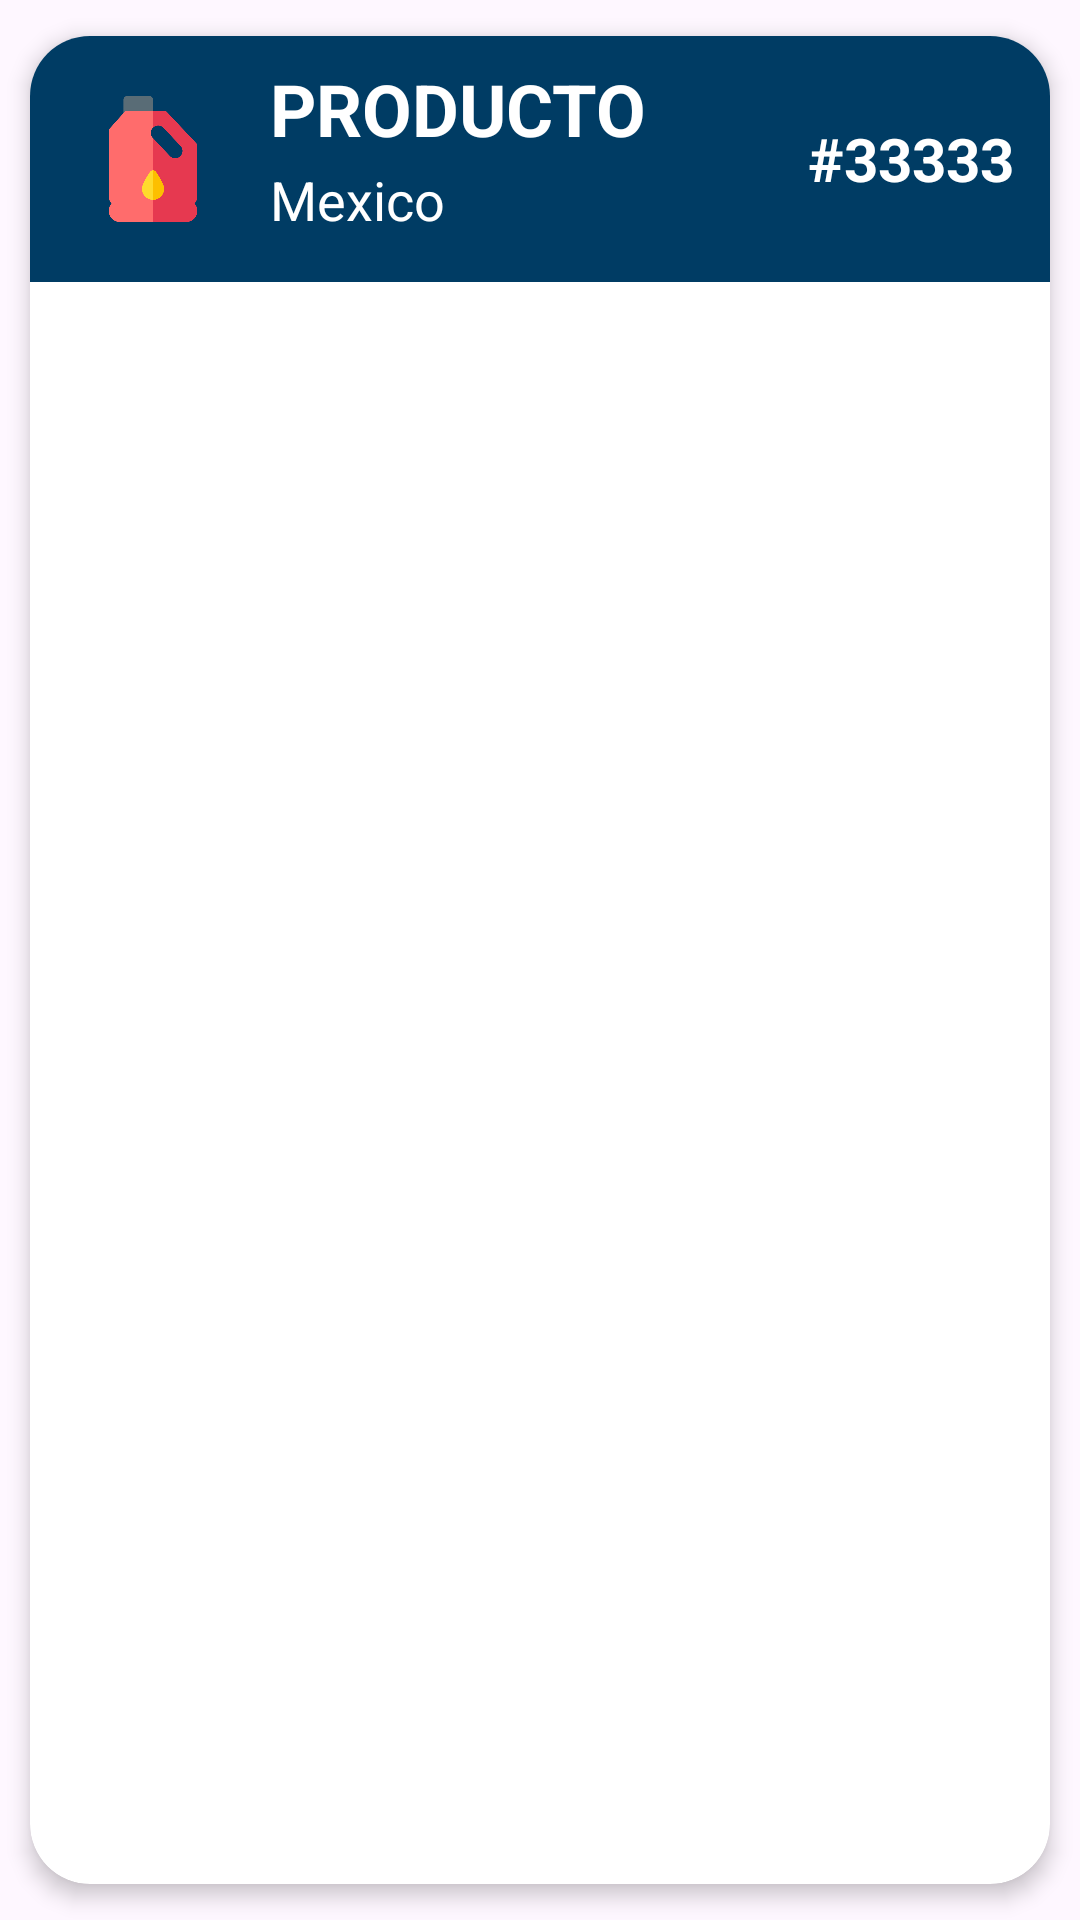

Point at icon controls on the screen. Image size 1080 x 1920, points as point (x, y).
aceite: point (153, 159)
